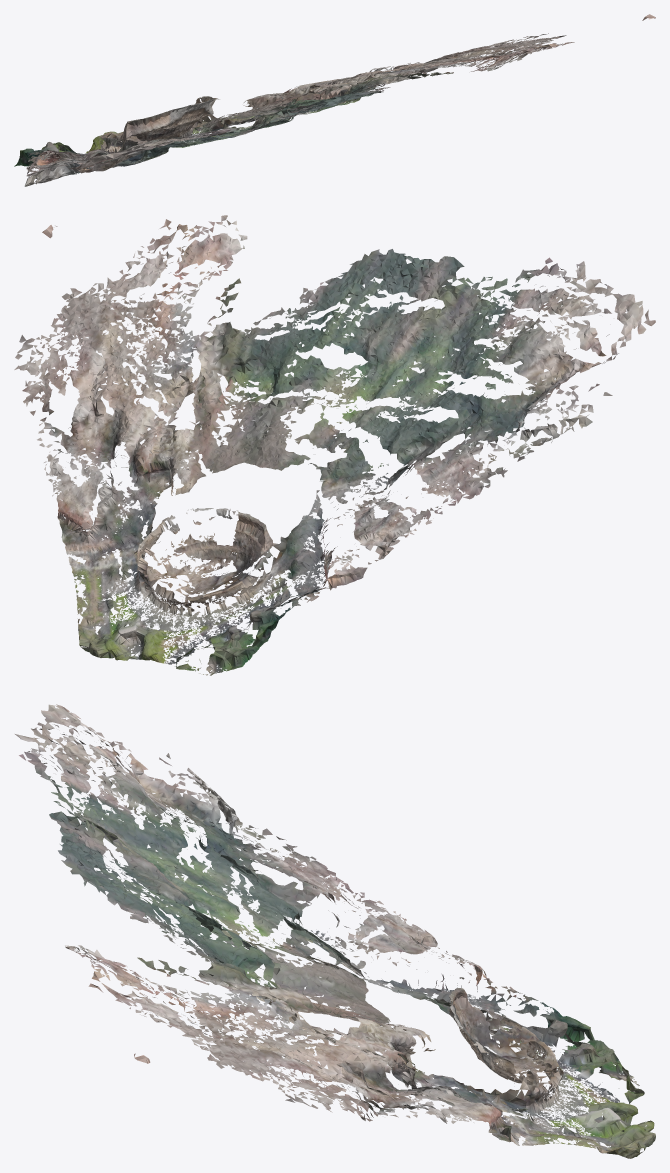
The model's file is colosseum_alpha.glb.
3 views of the same model, one above another, from view 1: azimuth 30°, elevation 25°; view 2: azimuth 150°, elevation 25°; view 3: azimuth 270°, elevation 25° (orthographic). The views are drawn at different scales.
Parts seen in each view (by area): view 1: world; view 2: world; view 3: world.
Part boxes in pixels (x1,y1,x2,y2): world: (14,14,655,186); world: (14,215,655,675); world: (15,704,655,1158).
Size of the model in its own units: 2.44 by 1.01 by 2.01.
